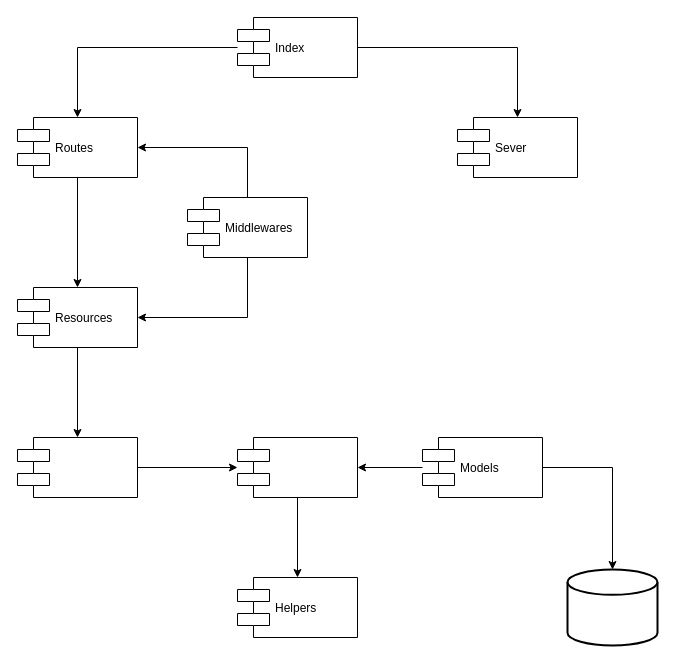
The diagram is 676 pixels wide and 664 high, and some of its shapes have lost their labels. Each missing label, with the box of its shape:
Controllers: (16, 436, 138, 498)
Database: (566, 568, 658, 646)
Services: (236, 436, 358, 498)
